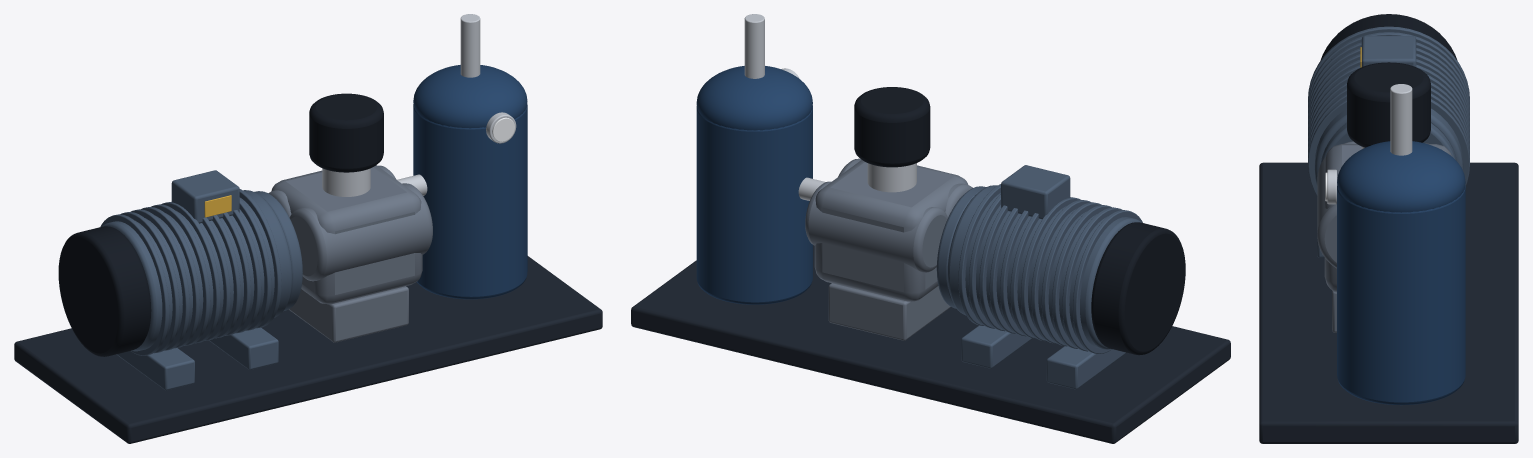
File: compressor.glb
3 renders of one model, left to right at view 1: azimuth 30°, elevation 25°; view 2: azimuth 150°, elevation 25°; view 3: azimuth 270°, elevation 25°, orthographic. The views are drawn at different scales.
Parts seen in each view (by area): view 1: C_Skid, C_Separator, C_MotorFins, C_FanCover, C_AirendBlock, C_MotorBody, C_LobeA, C_SeparatorDome, C_AirFilter, C_AirendFoot, C_TerminalBox, C_MotorFoot0 (+4 smaller); view 2: C_Skid, C_Separator, C_MotorFins, C_AirendBlock, C_FanCover, C_MotorBody, C_SeparatorDome, C_AirFilter, C_LobeB, C_AirendFoot, C_TerminalBox, C_MotorFoot0 (+4 smaller); view 3: C_Skid, C_Separator, C_MotorFins, C_SeparatorDome, C_AirFilter, C_OutletPipe, C_TerminalBox, C_FanCover, C_LobeA, C_MotorBody, C_AirendBlock, C_MotorDE (+1 smaller).
Part boxes in pixels (left/top/right/bottom): C_Skid: left=14, top=256, right=602, bottom=443; C_Separator: left=413, top=104, right=527, bottom=299; C_MotorFins: left=100, top=189, right=281, bottom=355; C_FanCover: left=58, top=226, right=151, bottom=356; C_AirendBlock: left=271, top=165, right=422, bottom=304; C_MotorBody: left=101, top=190, right=292, bottom=351; C_LobeA: left=289, top=183, right=432, bottom=281; C_SeparatorDome: left=413, top=65, right=527, bottom=128; C_AirFilter: left=309, top=93, right=383, bottom=172; C_AirendFoot: left=289, top=286, right=408, bottom=342; C_TerminalBox: left=171, top=170, right=239, bottom=223; C_MotorFoot0: left=116, top=348, right=194, bottom=390; C_Skid: left=631, top=245, right=1230, bottom=443; C_Separator: left=696, top=105, right=812, bottom=304; C_MotorFins: left=958, top=184, right=1142, bottom=353; C_AirendBlock: left=814, top=160, right=968, bottom=301; C_FanCover: left=1091, top=222, right=1185, bottom=355; C_MotorBody: left=947, top=185, right=1141, bottom=349; C_SeparatorDome: left=696, top=66, right=812, bottom=130; C_AirFilter: left=854, top=87, right=930, bottom=167; C_LobeB: left=805, top=181, right=947, bottom=272; C_AirendFoot: left=828, top=283, right=950, bottom=340; C_TerminalBox: left=1001, top=165, right=1070, bottom=219; C_MotorFoot0: left=1046, top=346, right=1126, bottom=389; C_Skid: left=1259, top=162, right=1518, bottom=443; C_Separator: left=1337, top=186, right=1465, bottom=405; C_MotorFins: left=1308, top=26, right=1469, bottom=196; C_SeparatorDome: left=1337, top=141, right=1465, bottom=212; C_AirFilter: left=1347, top=62, right=1430, bottom=147; C_OutletPipe: left=1390, top=84, right=1412, bottom=155; C_TerminalBox: left=1361, top=36, right=1416, bottom=66; C_FanCover: left=1320, top=14, right=1457, bottom=60; C_LobeA: left=1317, top=141, right=1356, bottom=268; C_MotorBody: left=1314, top=108, right=1463, bottom=185; C_AirendBlock: left=1324, top=144, right=1451, bottom=292; C_MotorDE: left=1320, top=123, right=1456, bottom=164.
Size of the model in its own units: 2.5 by 1.42 by 1.05.
